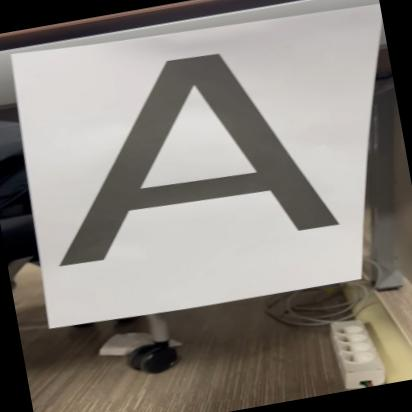seat: (23, 21, 354, 282)
